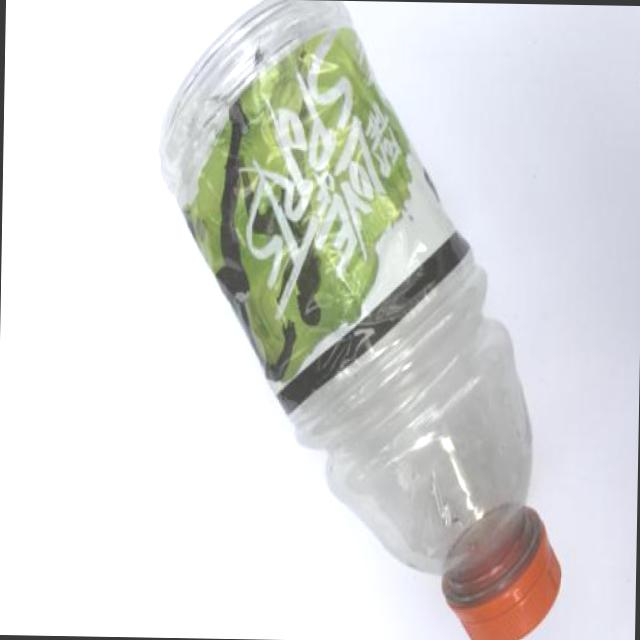Recycle: (147, 0, 571, 640)
